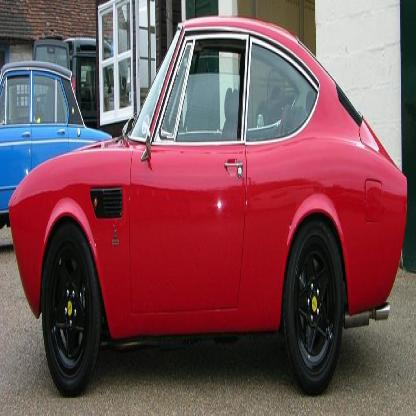Car: (9, 17, 408, 402), (1, 63, 113, 234), (32, 41, 142, 141)
